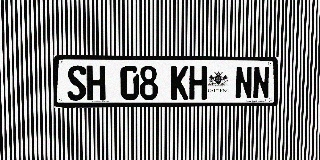0: (120, 65, 139, 100)
8: (140, 65, 158, 100)
H: (87, 65, 106, 100), (189, 66, 207, 100)
K: (171, 66, 189, 100)
N: (235, 66, 253, 99), (253, 66, 270, 99)
S: (67, 65, 86, 100)
